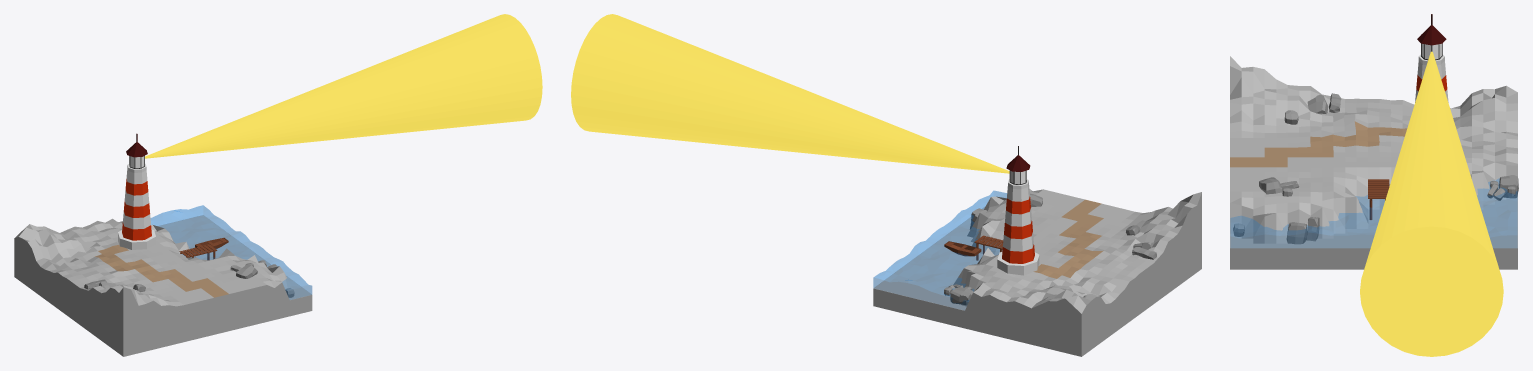
3 renders of one model, left to right at view 1: azimuth 30°, elevation 25°; view 2: azimuth 150°, elevation 25°; view 3: azimuth 270°, elevation 25°, orthographic. The views are drawn at different scales.
Parts seen in each view (by area): view 1: Land, Cone, Sea, Lighthouse, Road, Base.001; view 2: Land, Cone, Sea, Lighthouse, Road, Base.001; view 3: Land, Cone, Sea, Road, Lighthouse, Rock.003, Pier, Rock.001, Rock.004, Rock.014, Rock.011.
Boxes of the visible parts, <box> form: Land: <box>14,215,312,356</box>; Cone: <box>145,14,542,158</box>; Sea: <box>151,205,311,299</box>; Lighthouse: <box>122,133,151,240</box>; Road: <box>95,245,228,297</box>; Base.001: <box>118,229,155,249</box>; Land: <box>873,188,1201,356</box>; Cone: <box>571,14,1009,173</box>; Sea: <box>873,191,1006,310</box>; Lighthouse: <box>1002,146,1034,263</box>; Road: <box>1033,199,1103,278</box>; Base.001: <box>997,252,1039,275</box>; Land: <box>1230,56,1517,269</box>; Cone: <box>1360,51,1503,356</box>; Sea: <box>1230,178,1517,247</box>; Road: <box>1230,121,1407,167</box>; Lighthouse: <box>1415,14,1448,102</box>; Rock.003: <box>1286,222,1306,244</box>; Pier: <box>1368,179,1389,198</box>; Rock.001: <box>1499,175,1518,198</box>; Rock.004: <box>1259,177,1282,194</box>; Rock.014: <box>1307,94,1328,113</box>; Rock.011: <box>1306,217,1319,241</box>.
Bounding box in the file's own units: 19.83 × 6.83 × 8.03.
